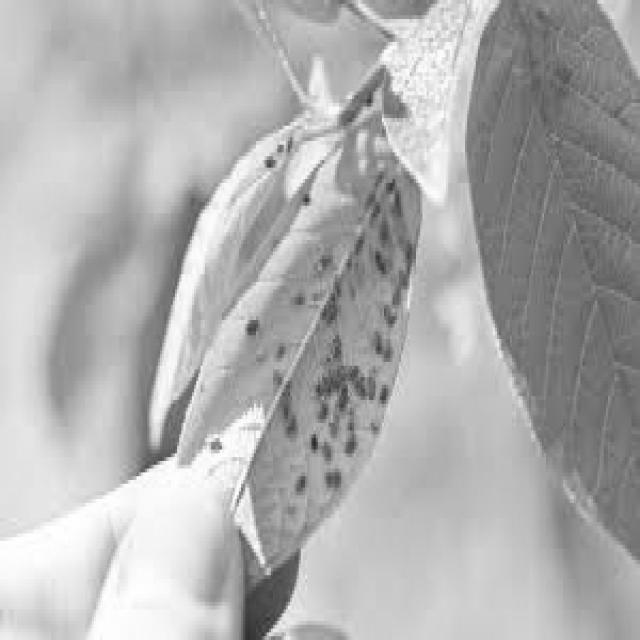Neem-Tree: (22, 253, 84, 265)
